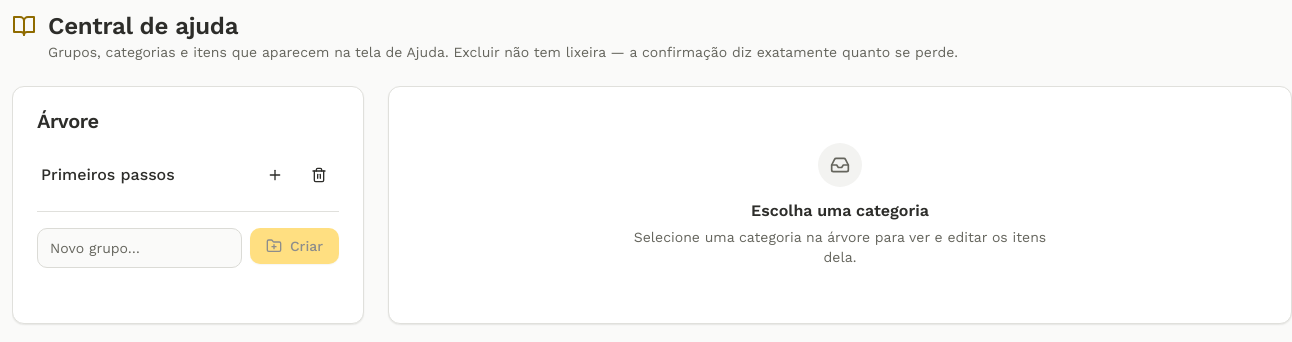
Test: HelpCenterPage › `Escape` cancela, e NÃO grava
Double-click the button "Primeiros passos": [108, 174] box x1=41 y1=165 x2=175 y2=184
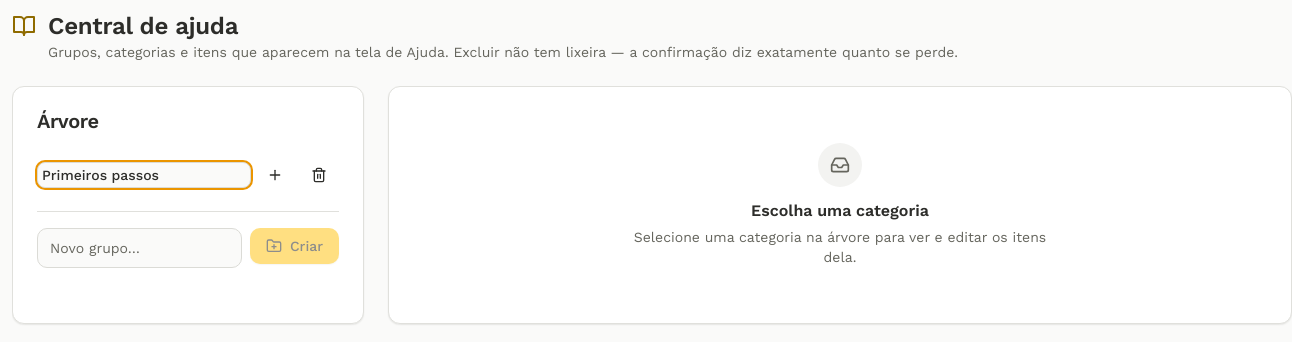
Replace the text in the field named "Renomear Primeiros passos" with "Descartado": [144, 175] box x1=37 y1=162 x2=251 y2=188
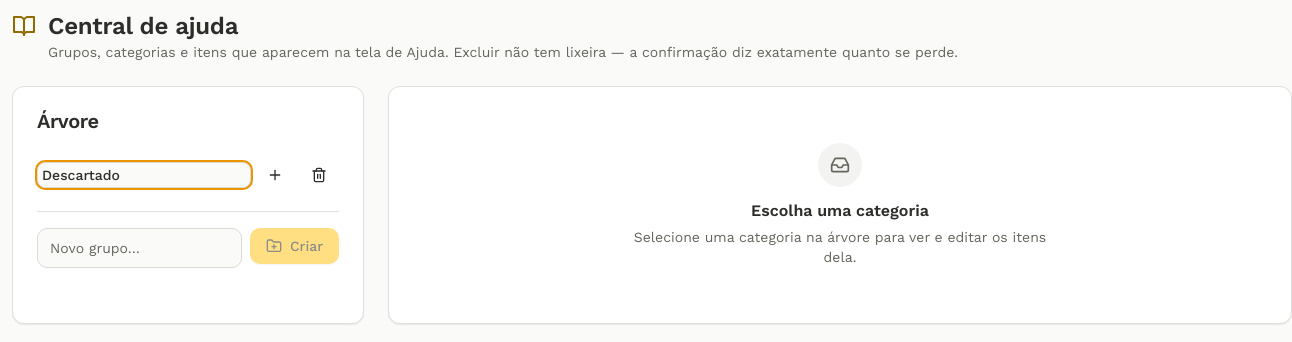
Press Escape in the field named "Renomear Primeiros passos", box x1=37 y1=162 x2=251 y2=188
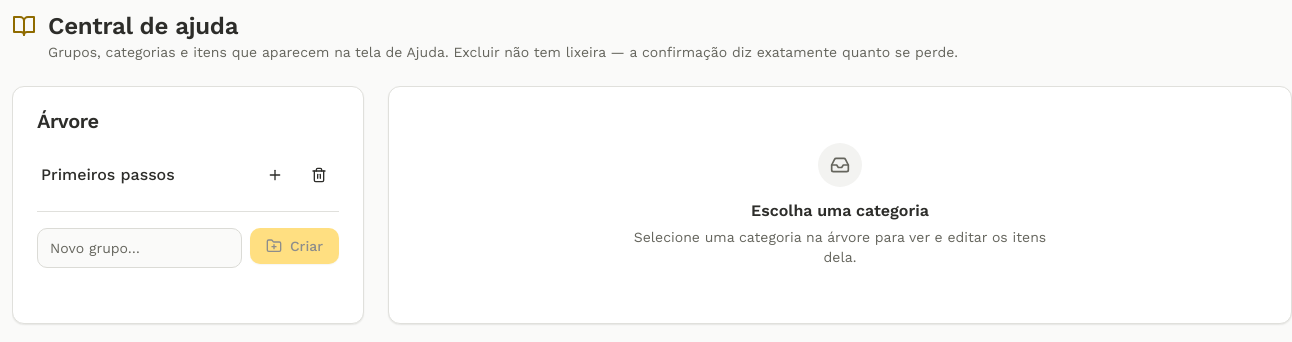
Expected: the button "Primeiros passos" is shown, x1=41 y1=165 x2=175 y2=184
